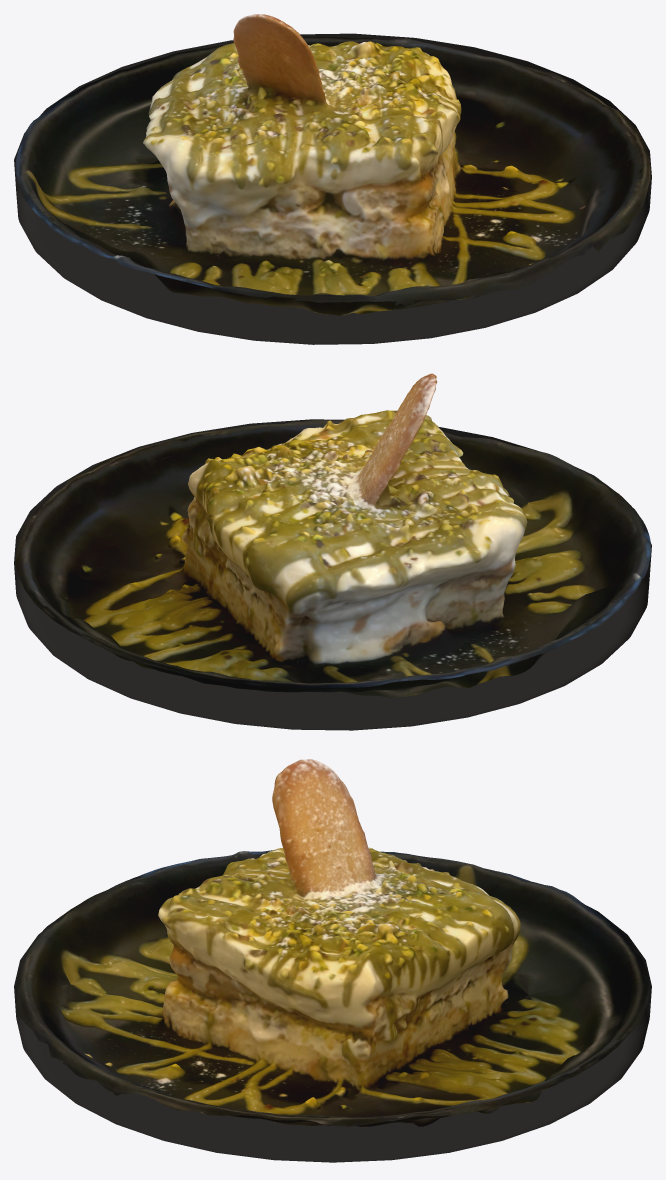
3 renders of one model, top to bottom at view 1: azimuth 30°, elevation 25°; view 2: azimuth 150°, elevation 25°; view 3: azimuth 270°, elevation 25°, orthographic.
Visible parts, largest first — view 1: defaultGroup0, Circle; view 2: defaultGroup0, Circle; view 3: defaultGroup0, Circle.
Part boxes in pixels (x1,y1,x2,y2): defaultGroup0: (15, 14, 650, 315); Circle: (14, 33, 651, 344); defaultGroup0: (15, 373, 650, 697); Circle: (14, 419, 651, 730); defaultGroup0: (15, 759, 649, 1126); Circle: (14, 868, 651, 1162).
Bounding box in the file's own units: 0.1894 × 0.0782 × 0.1894.
Materials: 2 (1 with a texture image).
